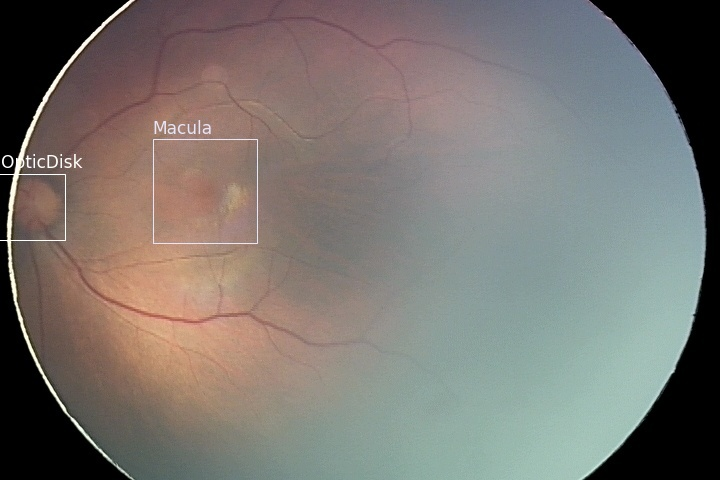Macula: (152, 138, 256, 242)
